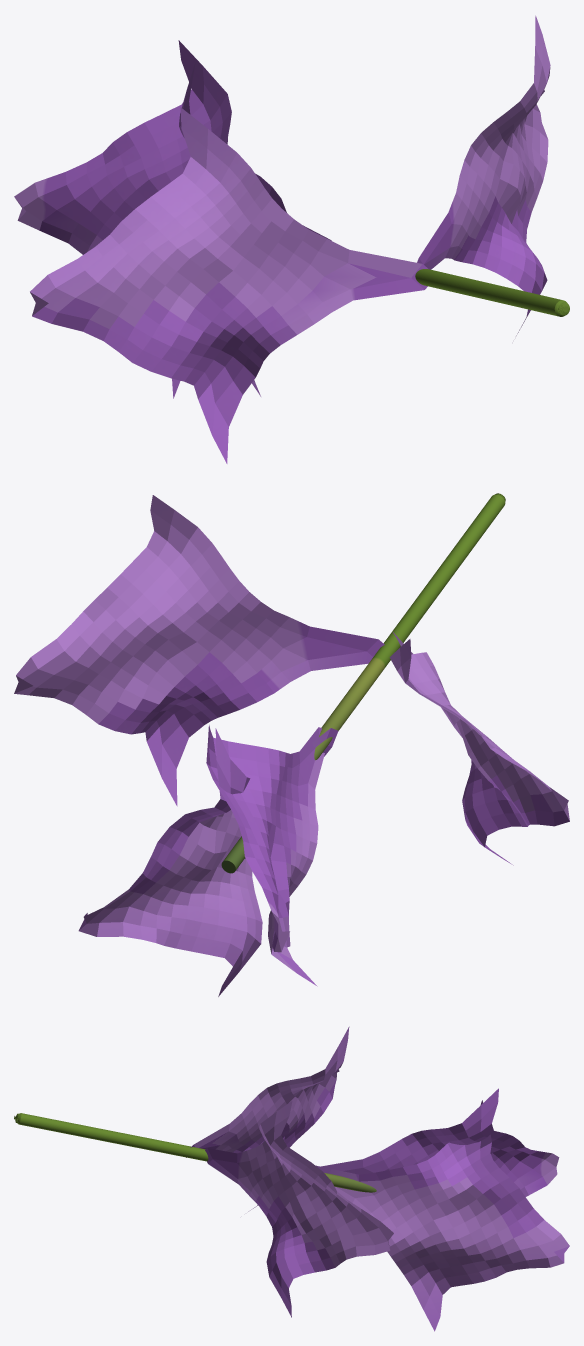
Rendered from leaves.glb.
The picture shows the model from 3 angles, top to bottom: view 1: azimuth 30°, elevation 25°; view 2: azimuth 150°, elevation 25°; view 3: azimuth 270°, elevation 25°; orthographic projection. The views are drawn at different scales.
Parts seen in each view (by area): view 1: Plane.002, Plane.003, Plane.001, Cylinder, Plane; view 2: Plane.003, Plane, Plane.001, Plane.002, Cylinder; view 3: Plane, Plane.003, Plane.001, Plane.002, Cylinder.
Boxes of the visible parts, <box> form: Plane.002: <box>30,107,427,463</box>; Plane.003: <box>417,15,550,335</box>; Plane.001: <box>14,40,331,398</box>; Cylinder: <box>415,269,569,316</box>; Plane: <box>179,63,286,396</box>; Plane.003: <box>14,495,384,806</box>; Plane: <box>78,728,338,996</box>; Plane.001: <box>206,725,324,986</box>; Plane.002: <box>389,632,569,865</box>; Cylinder: <box>221,493,505,873</box>; Plane: <box>316,1100,569,1331</box>; Plane.003: <box>205,1101,393,1317</box>; Plane.001: <box>317,1088,559,1196</box>; Plane.002: <box>186,1026,349,1211</box>; Cylinder: <box>14,1113,376,1192</box>.
Bounding box in the file's own units: 3.79 × 2.74 × 4.77.
2 materials, 2 textured.
